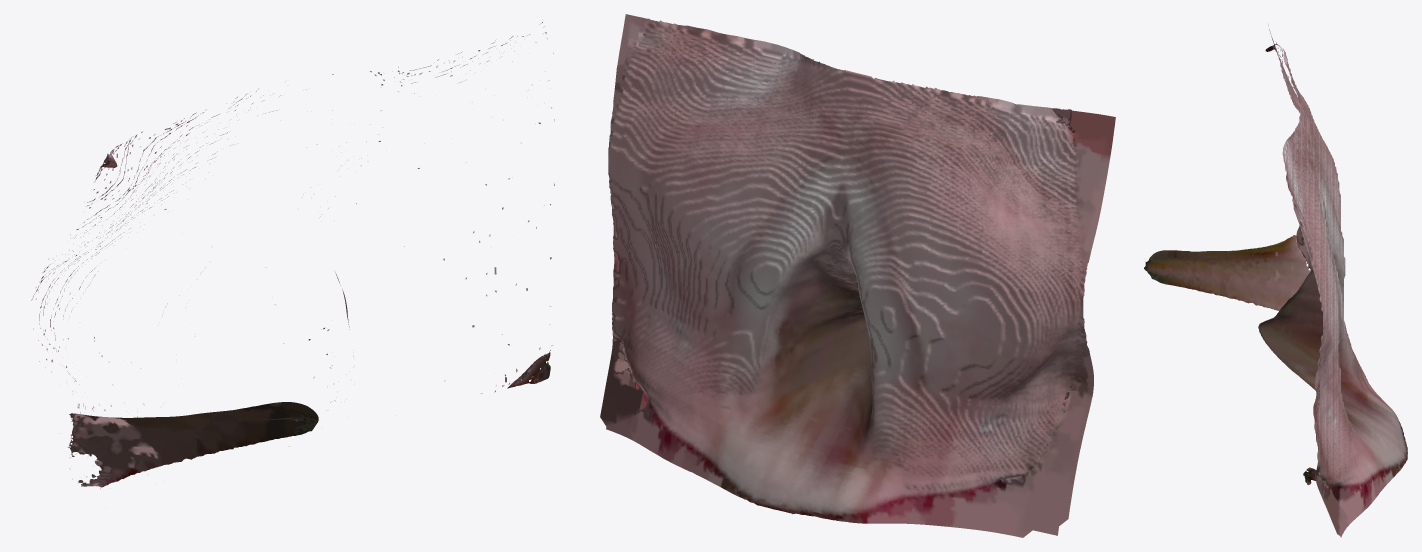
Rendered from lesion (6).gltf.
3 views of the same model, side by side, from view 1: azimuth 30°, elevation 25°; view 2: azimuth 150°, elevation 25°; view 3: azimuth 270°, elevation 25° (orthographic). The views are drawn at different scales.
Bounding box in the file's own units: 0.00123 × 0.000977 × 0.000699.
